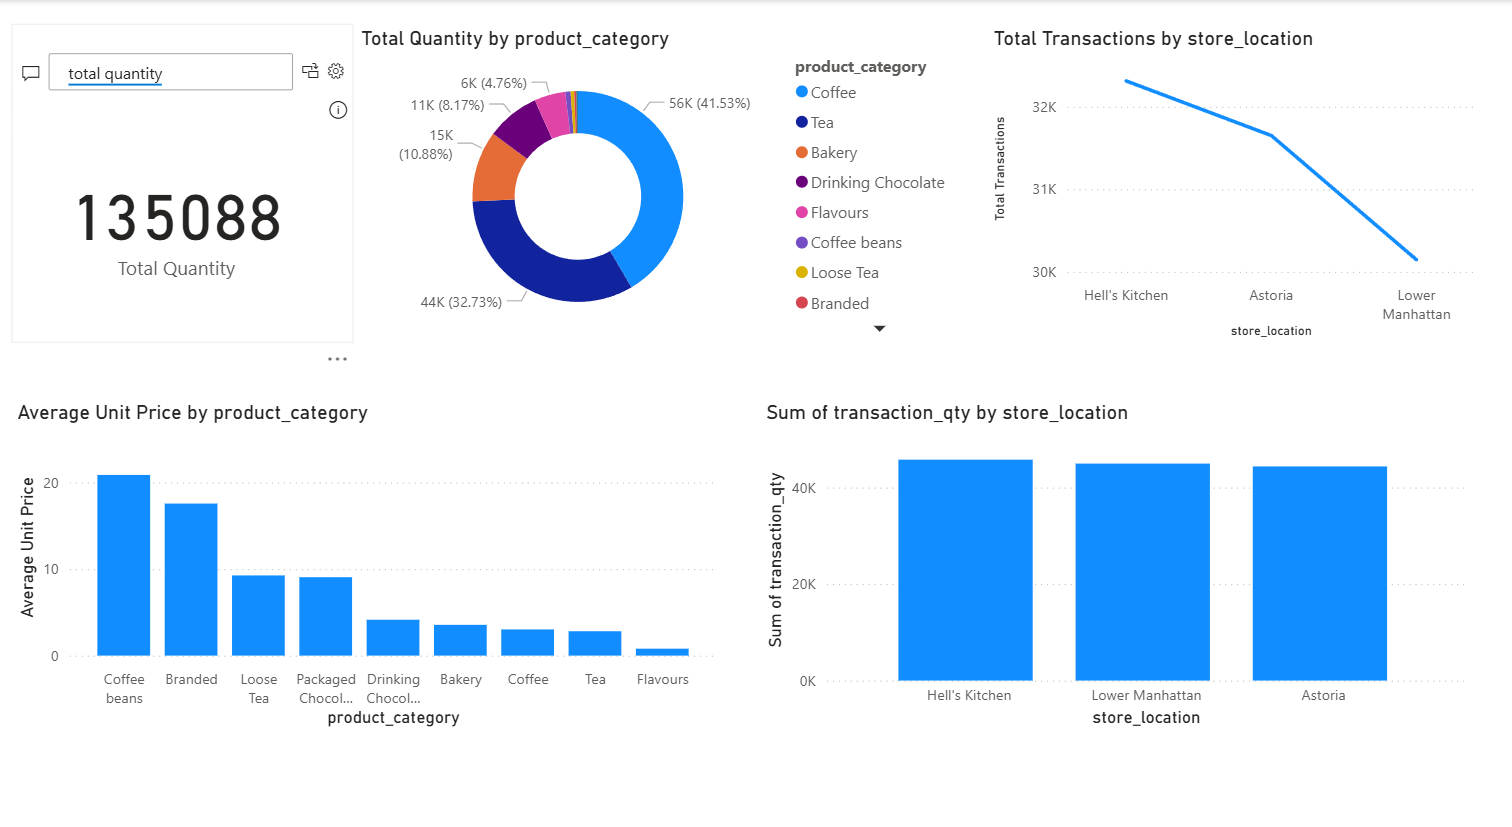

Layout of this report page (visuals, bound fields, positions):
{"tool":"powerbi","page":{"name":"Page 1","canvas":[1280,720],"ordinal":0},"visuals":[{"type":"columnChart","fields":{"Category":["coffee_shop_sales_db coffee_shop_sales.product_category"],"Y":["coffee_shop_sales_db coffee_shop_sales.Average Unit Price"]},"box":[10,336.7,598.3,280],"z":0},{"type":"donutChart","fields":{"Category":["coffee_shop_sales_db coffee_shop_sales.product_category"],"Y":["coffee_shop_sales_db coffee_shop_sales.Total Quantity"]},"box":[299.1,22,516,267.6],"z":1000},{"type":"lineChart","fields":{"Y":["coffee_shop_sales_db coffee_shop_sales.Total Transactions"],"Category":["coffee_shop_sales_db coffee_shop_sales.store_location"]},"box":[831.6,22,422.6,267.6],"z":2000},{"type":"clusteredColumnChart","fields":{"Y":["Sum(coffee_shop_sales_db coffee_shop_sales.transaction_qty)"],"Category":["coffee_shop_sales_db coffee_shop_sales.store_location"]},"box":[640,336.7,598.3,280],"z":3000},{"type":"qnaVisual","box":[10,20,288.3,268.3],"z":4000}]}

Visuals, with their boxes in screenshot pixels (x1, y1, x2, y2), scaled from the page's 1280x720 canvas onto the 1512x827 screenshot:
columnChart - coffee_shop_sales_db coffee_shop_sales.product_category x coffee_shop_sales_db coffee_shop_sales.Average Unit Price: region(12, 387, 719, 708)
donutChart - coffee_shop_sales_db coffee_shop_sales.product_category x coffee_shop_sales_db coffee_shop_sales.Total Quantity: region(353, 25, 963, 333)
lineChart - coffee_shop_sales_db coffee_shop_sales.Total Transactions x coffee_shop_sales_db coffee_shop_sales.store_location: region(982, 25, 1482, 333)
clusteredColumnChart - Sum(coffee_shop_sales_db coffee_shop_sales.transaction_qty) x coffee_shop_sales_db coffee_shop_sales.store_location: region(756, 387, 1463, 708)
qnaVisual: region(12, 23, 352, 331)
